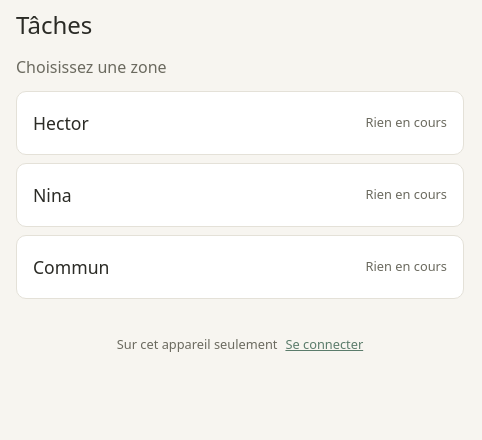
Scenario: App › edits a task and updates its text, difficulty, and due date
The image size is (482, 440).
Click the button "Hector Rien en cours": click(61, 123) [16, 91, 464, 155]
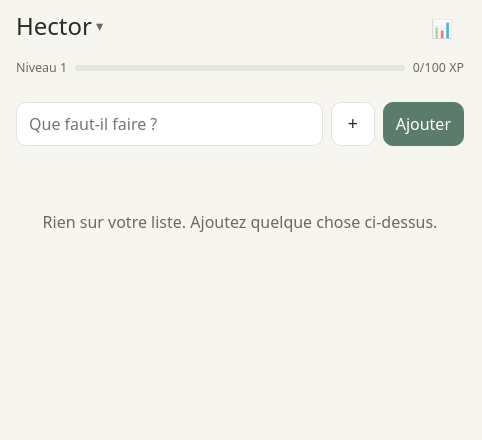
In the field named "Nouvelle tâche": (169, 124) [16, 102, 323, 146], type "Acheter du lait"
Click the button "Ajouter": click(423, 124) [383, 102, 464, 146]
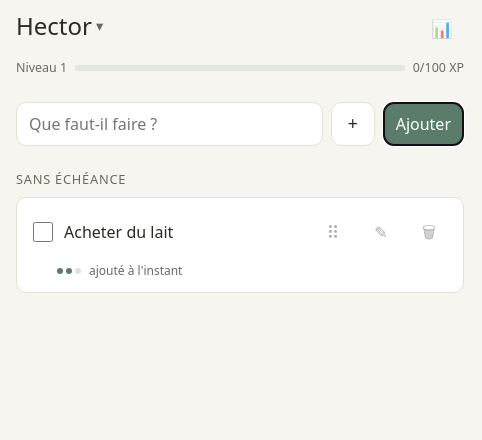
Click the button named "Modifier Acheter du lait": click(381, 232) [359, 210, 403, 254]
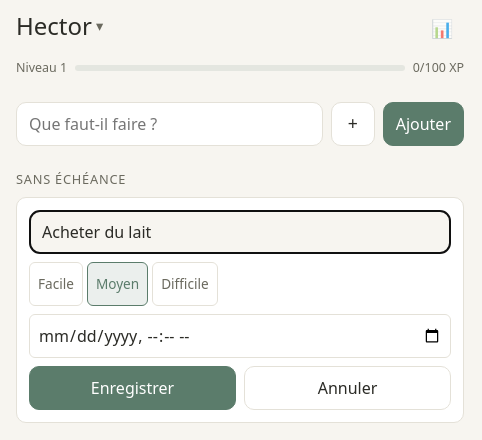
Replace the text in the field named "Modifier le texte de la tâche" with "Acheter du pain": (240, 232) [29, 210, 451, 254]
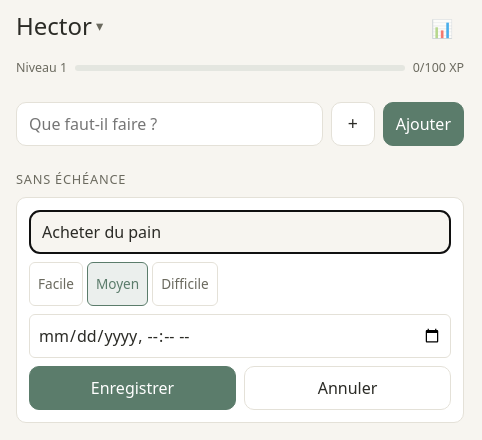
Click the radio button labelled "Difficile": click(185, 284) [152, 262, 218, 306]
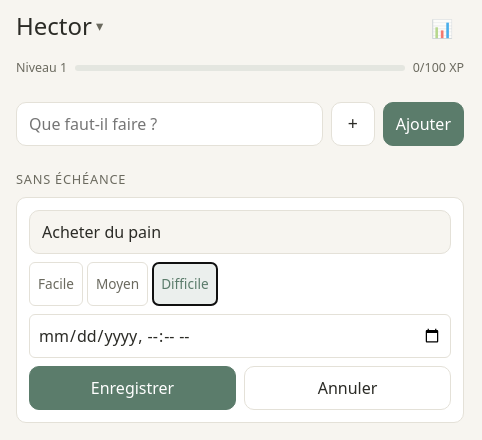
Click the button "Enregistrer": click(132, 388) [29, 366, 236, 410]
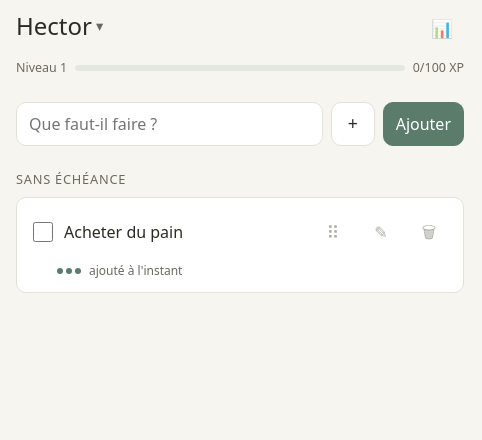
Expected: the text "Acheter du lait" is not shown
Result: the text "Acheter du pain" is shown at [64, 220, 183, 244]
Result: the element named "Difficulté : difficile" is shown at [57, 268, 81, 274]
